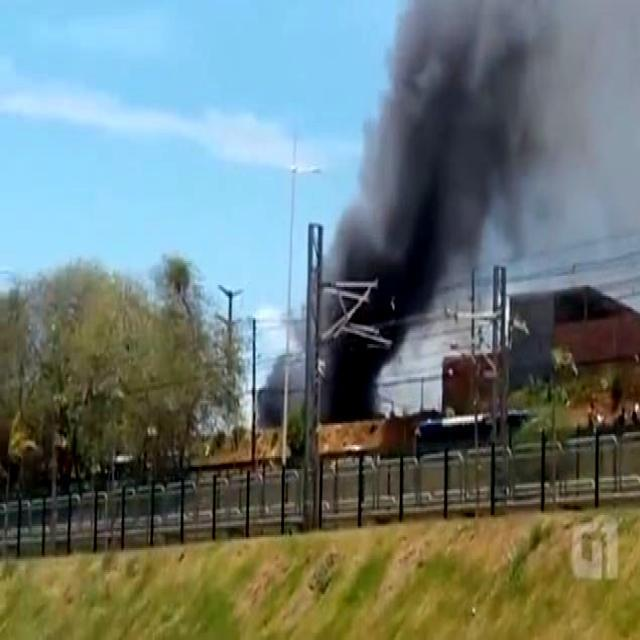Smoke: (325, 0, 640, 407)
